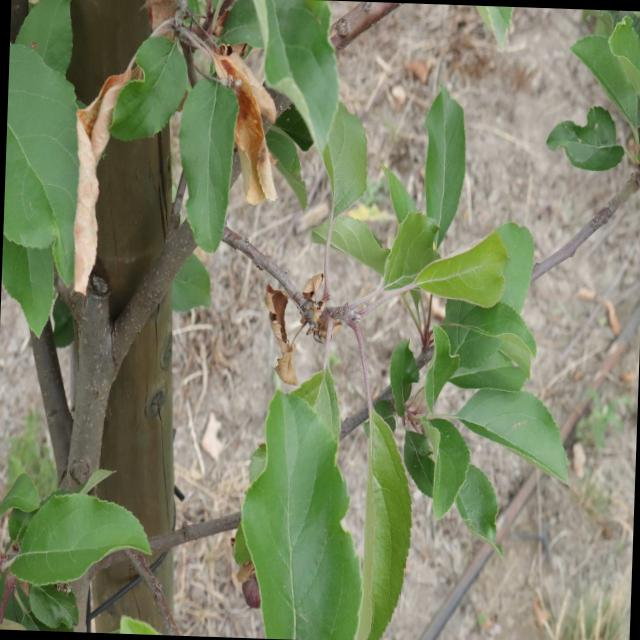-FireBlight-: (194, 37, 286, 204), (60, 80, 116, 296), (257, 273, 316, 397)
